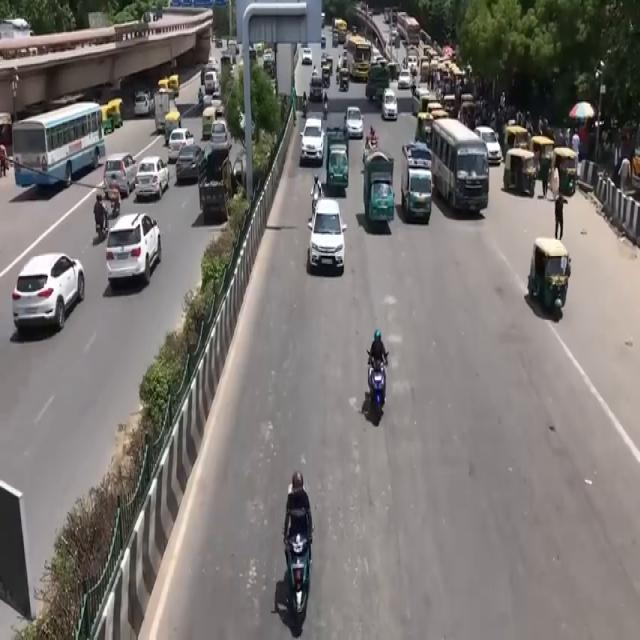BUS: (15, 102, 108, 194), (427, 117, 489, 218), (348, 38, 373, 82)
MOTORCYCLE: (284, 527, 314, 637), (368, 354, 387, 424)
